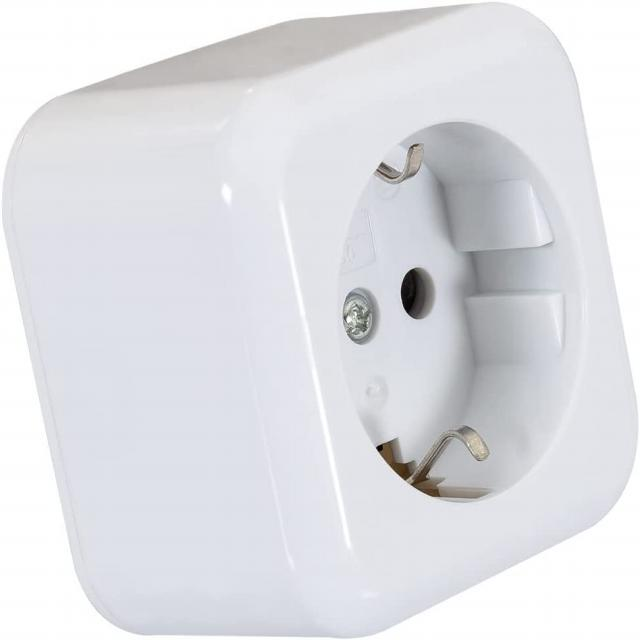typeb: (225, 63, 604, 551)
